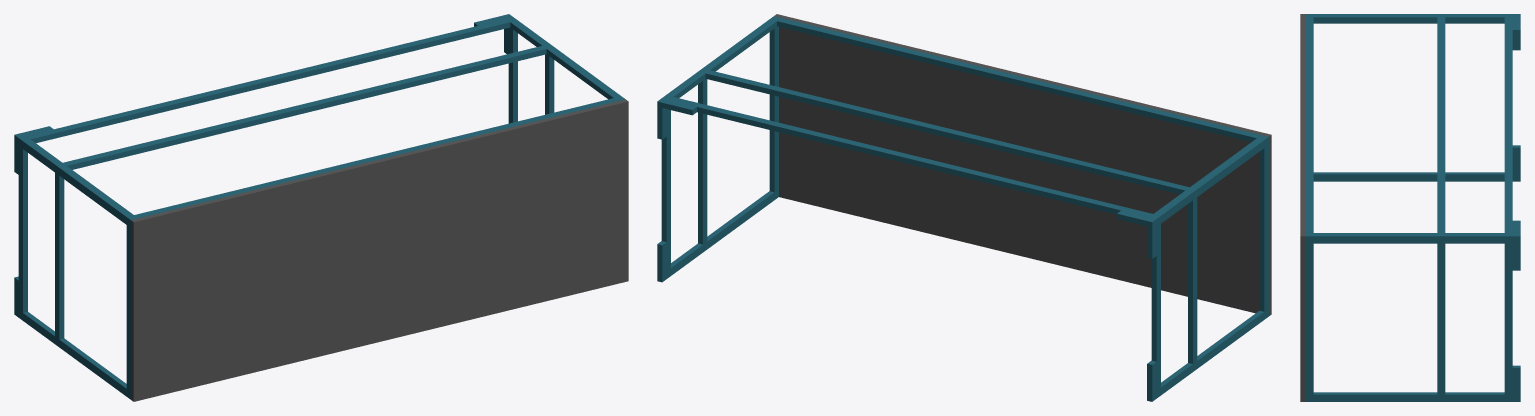
The model's file is table.dae.
3 views of the same model, side by side, from view 1: azimuth 30°, elevation 25°; view 2: azimuth 150°, elevation 25°; view 3: azimuth 270°, elevation 25° (orthographic). The views are drawn at different scales.
Parts seen in each view (by area): view 1: coordinate_93_material1, coordinate_144_material0, coordinate_139_material0, coordinate_23_material1, coordinate_24_material0, coordinate_136_material0, coordinate_140_material0, coordinate_141_material0, coordinate_145_material0, coordinate_146_material0, coordinate_114_material0, coordinate_129_material0 (+3 smaller); view 2: coordinate_19_material1, coordinate_142_material0, coordinate_137_material0, coordinate_147_material0, coordinate_23_material1, coordinate_24_material0, coordinate_136_material0, coordinate_141_material0, coordinate_145_material0, coordinate_140_material0, coordinate_146_material0, coordinate_112_material0 (+9 smaller); view 3: coordinate_23_material1, coordinate_24_material0, coordinate_141_material0, coordinate_145_material0, coordinate_140_material0, coordinate_22_material1, coordinate_136_material0, coordinate_8_material0, coordinate_146_material0, coordinate_11_material0, coordinate_12_material0, coordinate_10_material0 (+22 smaller).
Boxes of the visible parts, box(x1,y1,x2,y2) form: coordinate_93_material1: box(133, 101, 628, 401); coordinate_144_material0: box(31, 22, 510, 143); coordinate_139_material0: box(67, 49, 546, 169); coordinate_23_material1: box(131, 99, 628, 221); coordinate_24_material0: box(145, 98, 624, 216); coordinate_136_material0: box(131, 101, 598, 219); coordinate_140_material0: box(86, 45, 546, 161); coordinate_141_material0: box(63, 48, 532, 165); coordinate_145_material0: box(43, 22, 508, 136); coordinate_146_material0: box(32, 30, 460, 138); coordinate_114_material0: box(59, 176, 64, 339); coordinate_129_material0: box(23, 149, 27, 312); coordinate_19_material1: box(779, 27, 1259, 313); coordinate_142_material0: box(705, 73, 1184, 194); coordinate_137_material0: box(777, 21, 1256, 141); coordinate_147_material0: box(697, 107, 1120, 214); coordinate_23_material1: box(774, 14, 1271, 136); coordinate_24_material0: box(774, 16, 1254, 133); coordinate_136_material0: box(792, 24, 1268, 138); coordinate_141_material0: box(719, 76, 1189, 190); coordinate_145_material0: box(674, 97, 1141, 211); coordinate_140_material0: box(706, 70, 1179, 184); coordinate_146_material0: box(707, 109, 1152, 213); coordinate_112_material0: box(1259, 148, 1264, 311); coordinate_23_material1: box(1300, 14, 1305, 236); coordinate_24_material0: box(1305, 16, 1313, 235); coordinate_141_material0: box(1437, 17, 1445, 226); coordinate_145_material0: box(1504, 26, 1512, 232); coordinate_140_material0: box(1437, 21, 1445, 232); coordinate_22_material1: box(1300, 236, 1305, 401); coordinate_136_material0: box(1305, 14, 1313, 224); coordinate_8_material0: box(1306, 236, 1519, 243); coordinate_146_material0: box(1504, 18, 1512, 218); coordinate_11_material0: box(1306, 394, 1500, 401); coordinate_12_material0: box(1310, 394, 1519, 401); coordinate_10_material0: box(1305, 238, 1313, 401).
Size of what is drawn, in the model's own units: 27.78 by 9.64 by 11.62.
